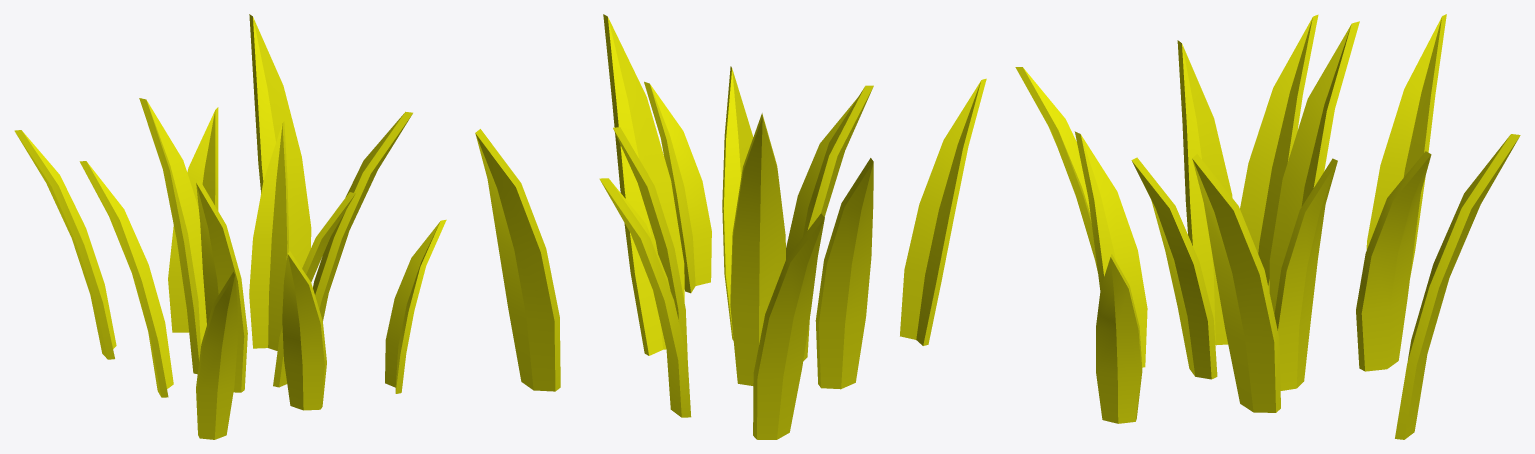
Rendered from kaykit-grass-2-d-color-1.glb.
3 renders of one model, left to right at view 1: azimuth 30°, elevation 25°; view 2: azimuth 150°, elevation 25°; view 3: azimuth 270°, elevation 25°, orthographic. The views are drawn at different scales.
Visible parts, largest first — view 1: Grass_2_D_Color1; view 2: Grass_2_D_Color1; view 3: Grass_2_D_Color1.
Part boxes in pixels (x1,y1,x2,y2): Grass_2_D_Color1: (14, 14, 446, 439); Grass_2_D_Color1: (475, 14, 986, 439); Grass_2_D_Color1: (1015, 14, 1520, 439).
Bounding box in the file's own units: 1.1 × 0.9352 × 1.37.
